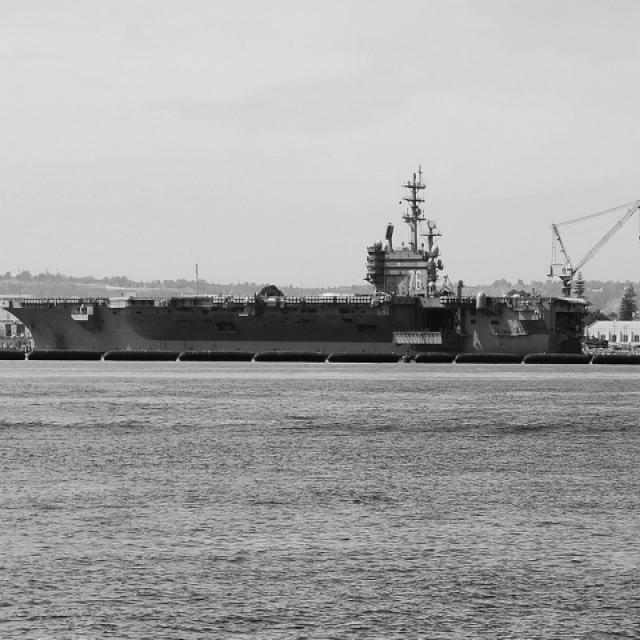Portanaves: (1, 152, 593, 365)
